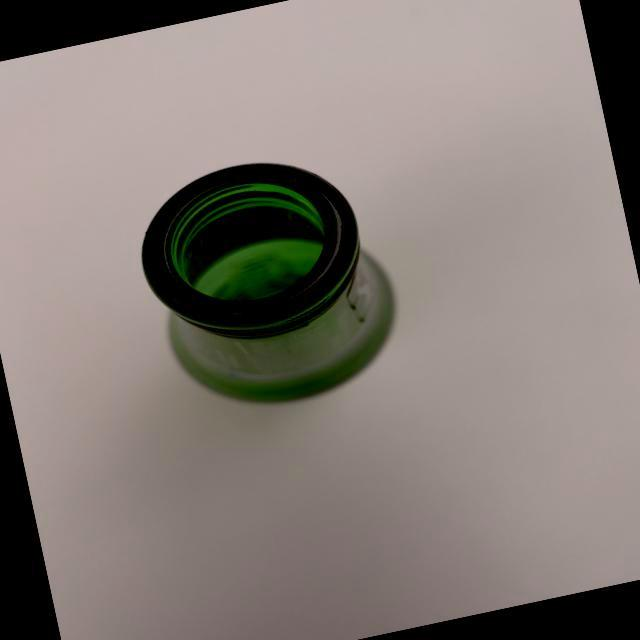glass: (107, 102, 451, 457)
